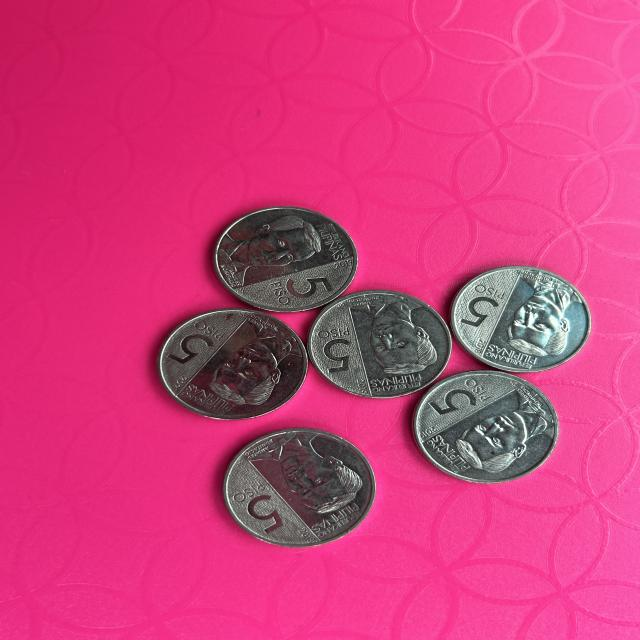5_New_Front: (144, 315, 237, 373), (260, 269, 347, 314), (230, 477, 290, 537), (450, 278, 506, 334), (320, 324, 364, 386), (429, 374, 491, 416)
